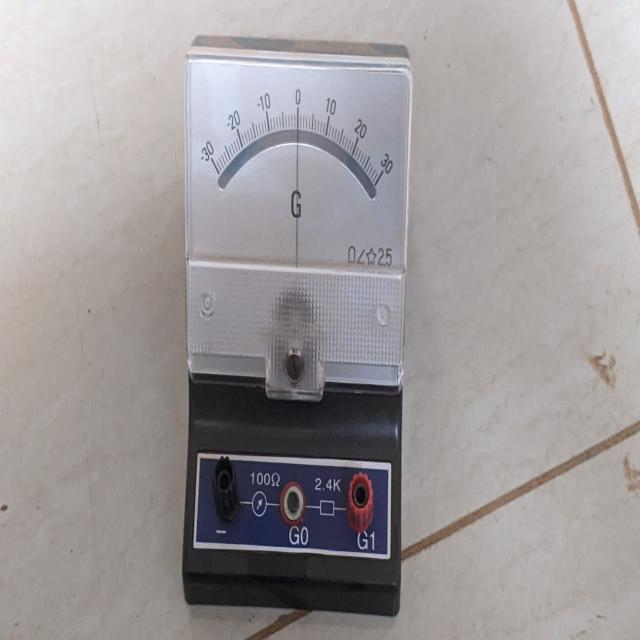Galvanometer: (167, 26, 417, 627)
